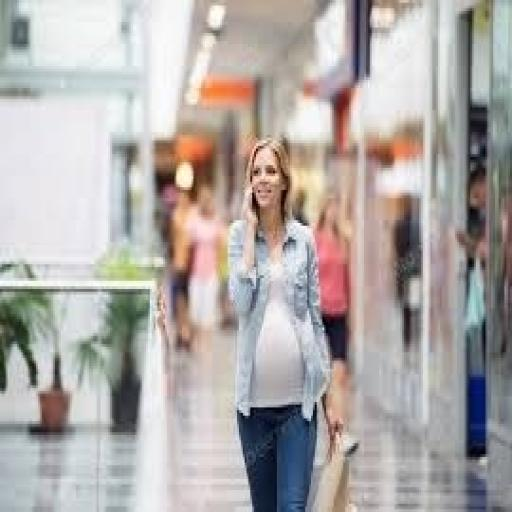calling: (224, 135, 341, 509)
